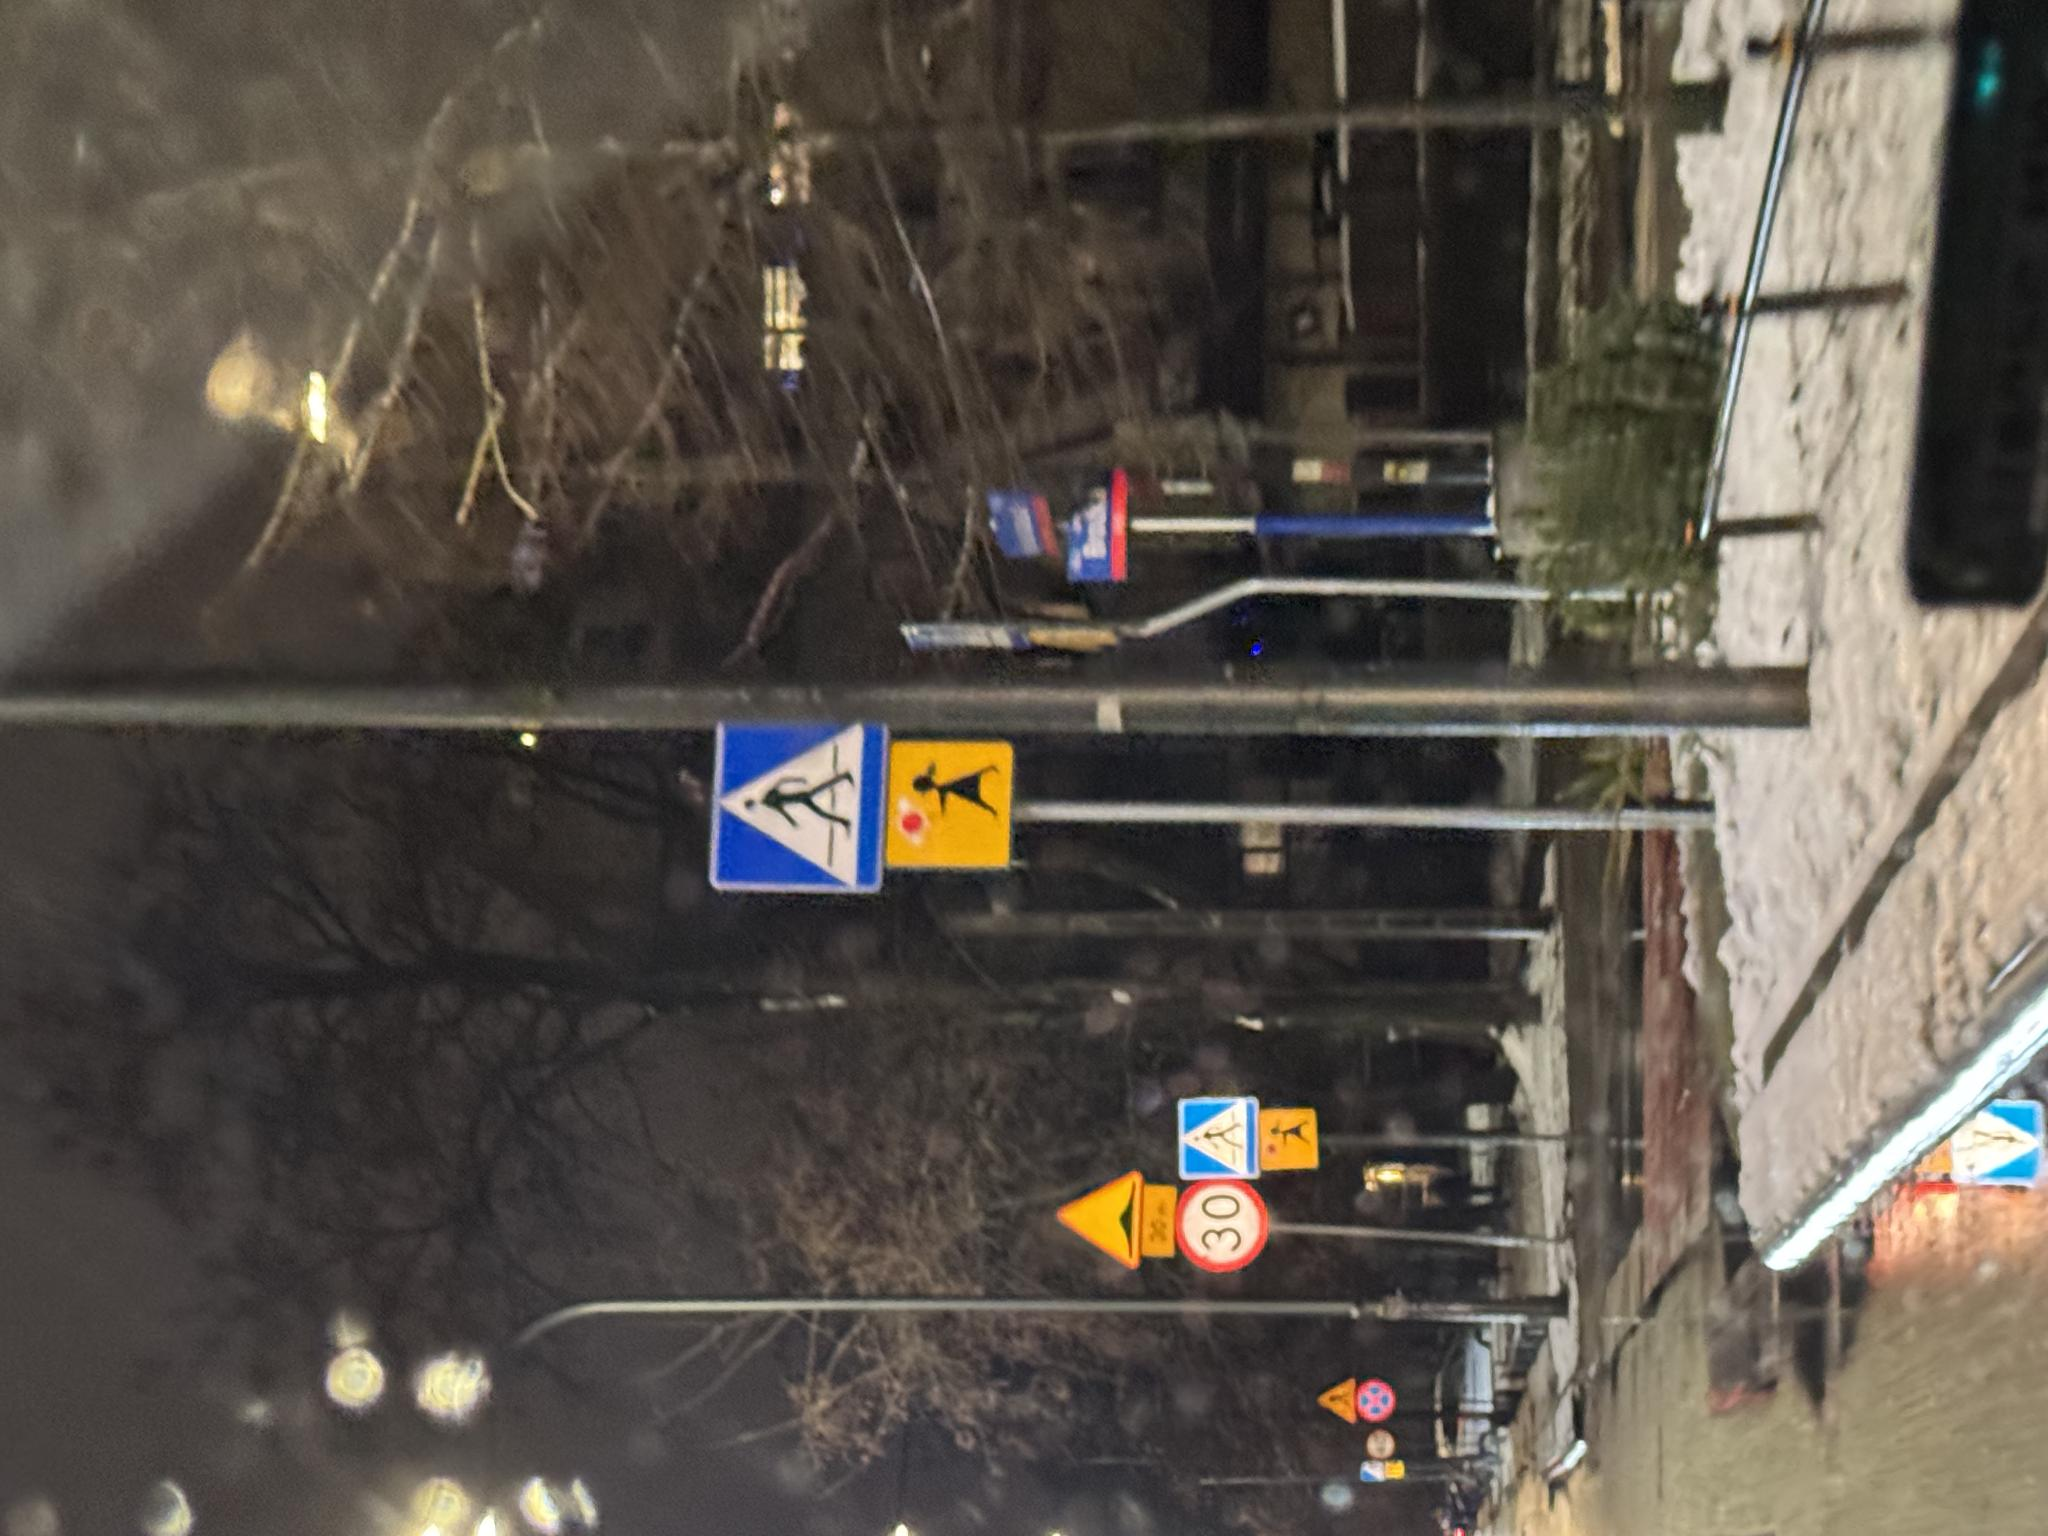information: (642, 705, 813, 889), (356, 1178, 443, 1258)
other: (668, 887, 797, 1015), (364, 1258, 427, 1320)
prohibitory: (261, 1175, 356, 1271), (114, 1357, 158, 1396), (76, 1367, 106, 1396)
warning: (269, 1055, 369, 1141), (110, 1315, 160, 1357)
